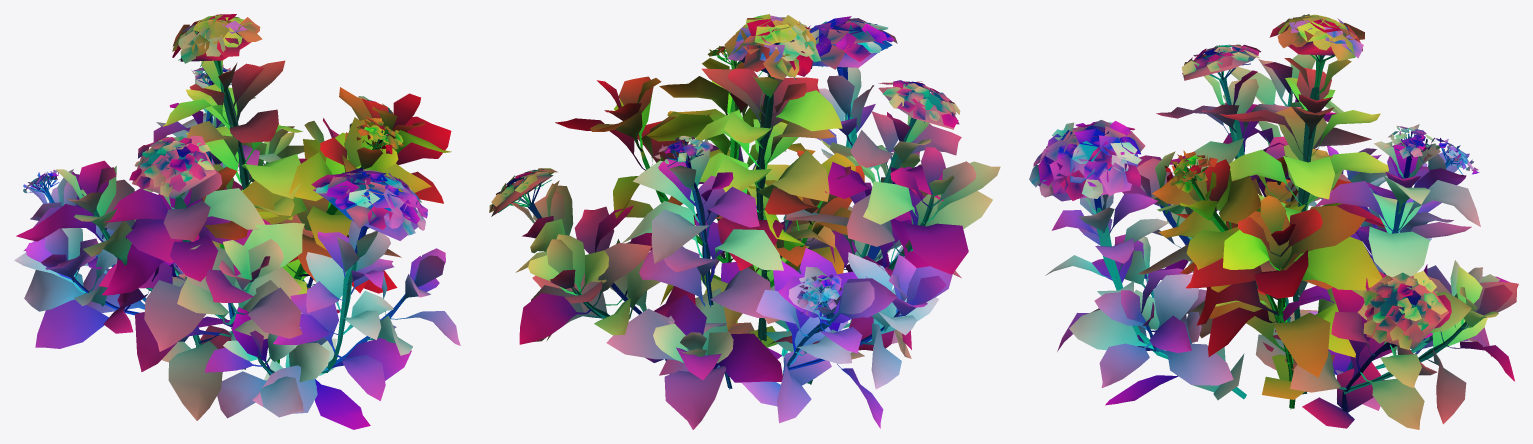
The model's file is Bigleaf_Hydrangea_vgztealha_Mid_vgztealha_VarD_LOD1.fbx.
3 renders of one model, left to right at view 1: azimuth 30°, elevation 25°; view 2: azimuth 150°, elevation 25°; view 3: azimuth 270°, elevation 25°, orthographic. The views are drawn at different scales.
Visible parts, largest first — view 1: _fb64_VarD_LOD3; view 2: _fb64_VarD_LOD3; view 3: _fb64_VarD_LOD3.
Part boxes in pixels (x1,y1,x2,y2): _fb64_VarD_LOD3: (14,14,460,429); _fb64_VarD_LOD3: (489,14,1000,429); _fb64_VarD_LOD3: (1029,14,1518,429).
Bounding box in the file's own units: 128 × 104 × 125.
